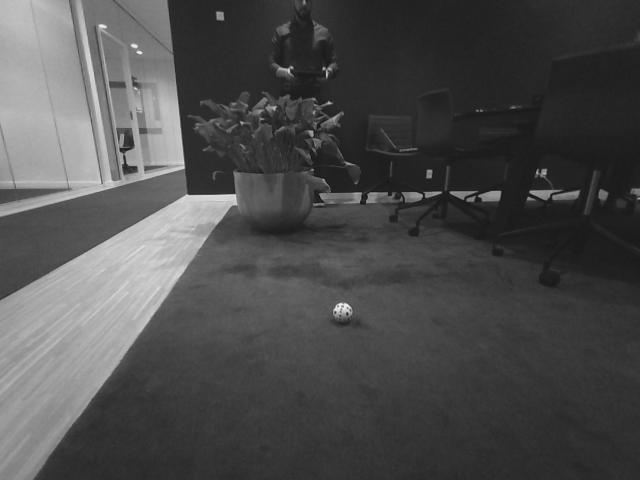dogtoy: (326, 294, 361, 329)
